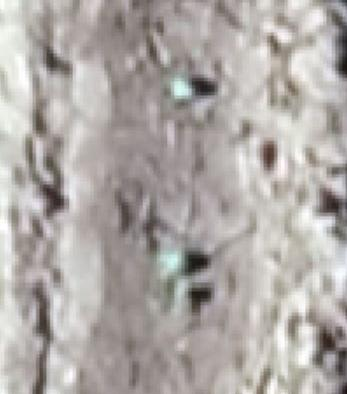cotton: (172, 77, 191, 97), (166, 253, 186, 271), (179, 281, 188, 301)
